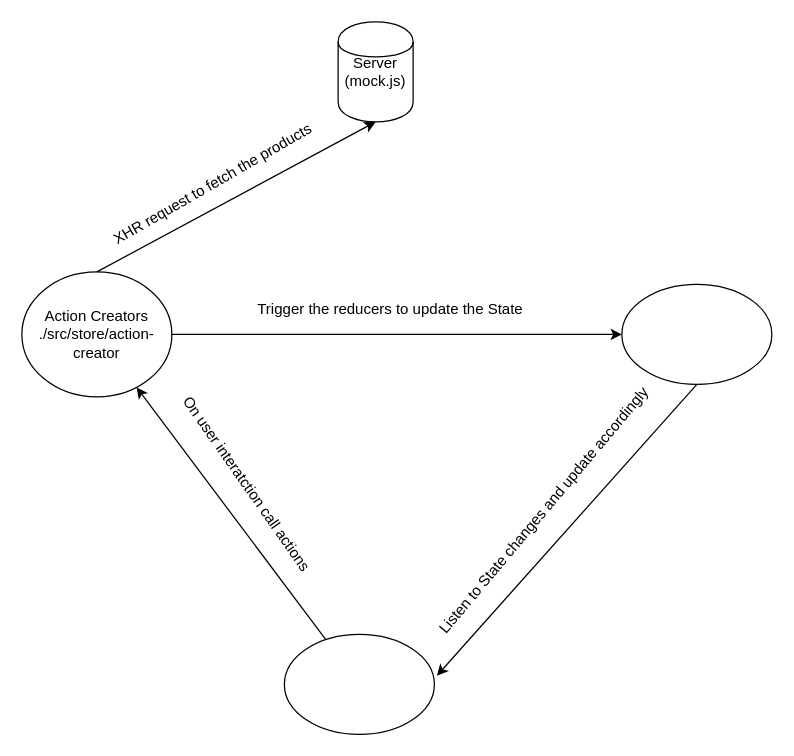
The diagram is 794 pixels wide and 756 high, and some of its shapes have lost their labels. The shapes that lost their labels are listed below. From the top down, each one's centre as x and y in pixels, then its label:
At point (696, 333): "Store/Reducers ./src/store/reducers".
At point (358, 683): "UI/Components ./src/components/**".
